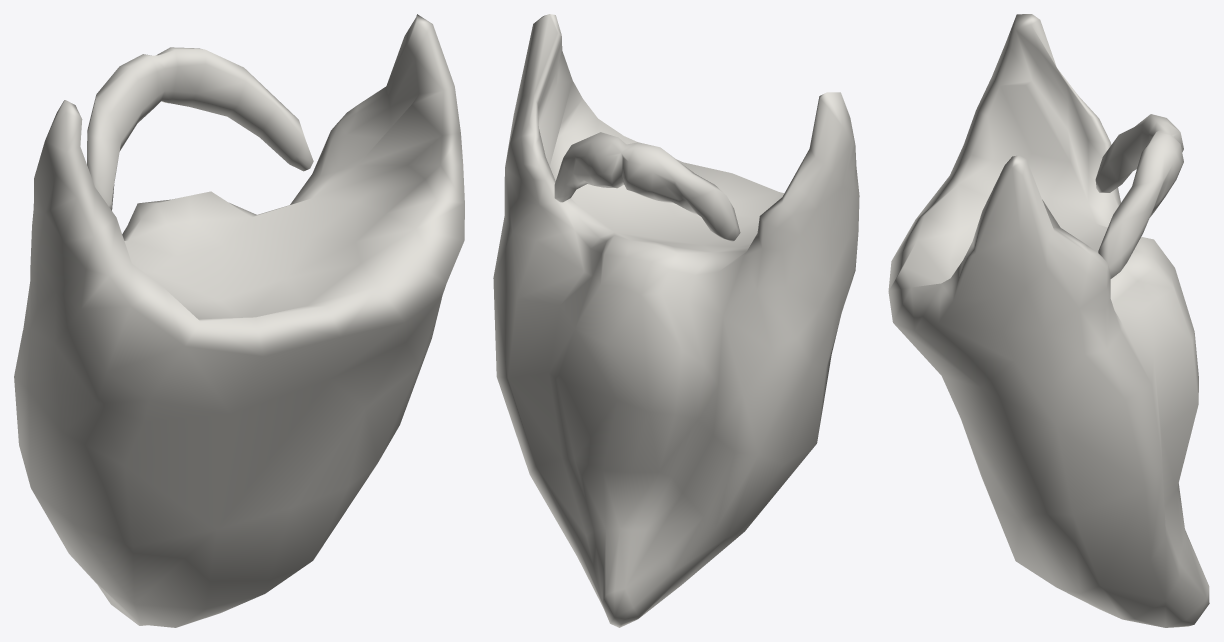
Rendered from Beard.gltf.
3 renders of one model, left to right at view 1: azimuth 30°, elevation 25°; view 2: azimuth 150°, elevation 25°; view 3: azimuth 270°, elevation 25°, orthographic. The views are drawn at different scales.
Parts seen in each view (by area): view 1: Standard.12, Standard.13; view 2: Standard.12, Standard.13; view 3: Standard.12, Standard.13.
Part boxes in pixels (x1,y1,x2,y2): Standard.12: (14,14,464,627); Standard.13: (87,47,313,210); Standard.12: (493,14,859,627); Standard.13: (554,132,740,241); Standard.12: (888,14,1209,627); Standard.13: (1095,114,1183,278).
Bounding box in the file's own units: 0.0138 × 0.0211 × 0.0112.
2 materials, 2 textured.
